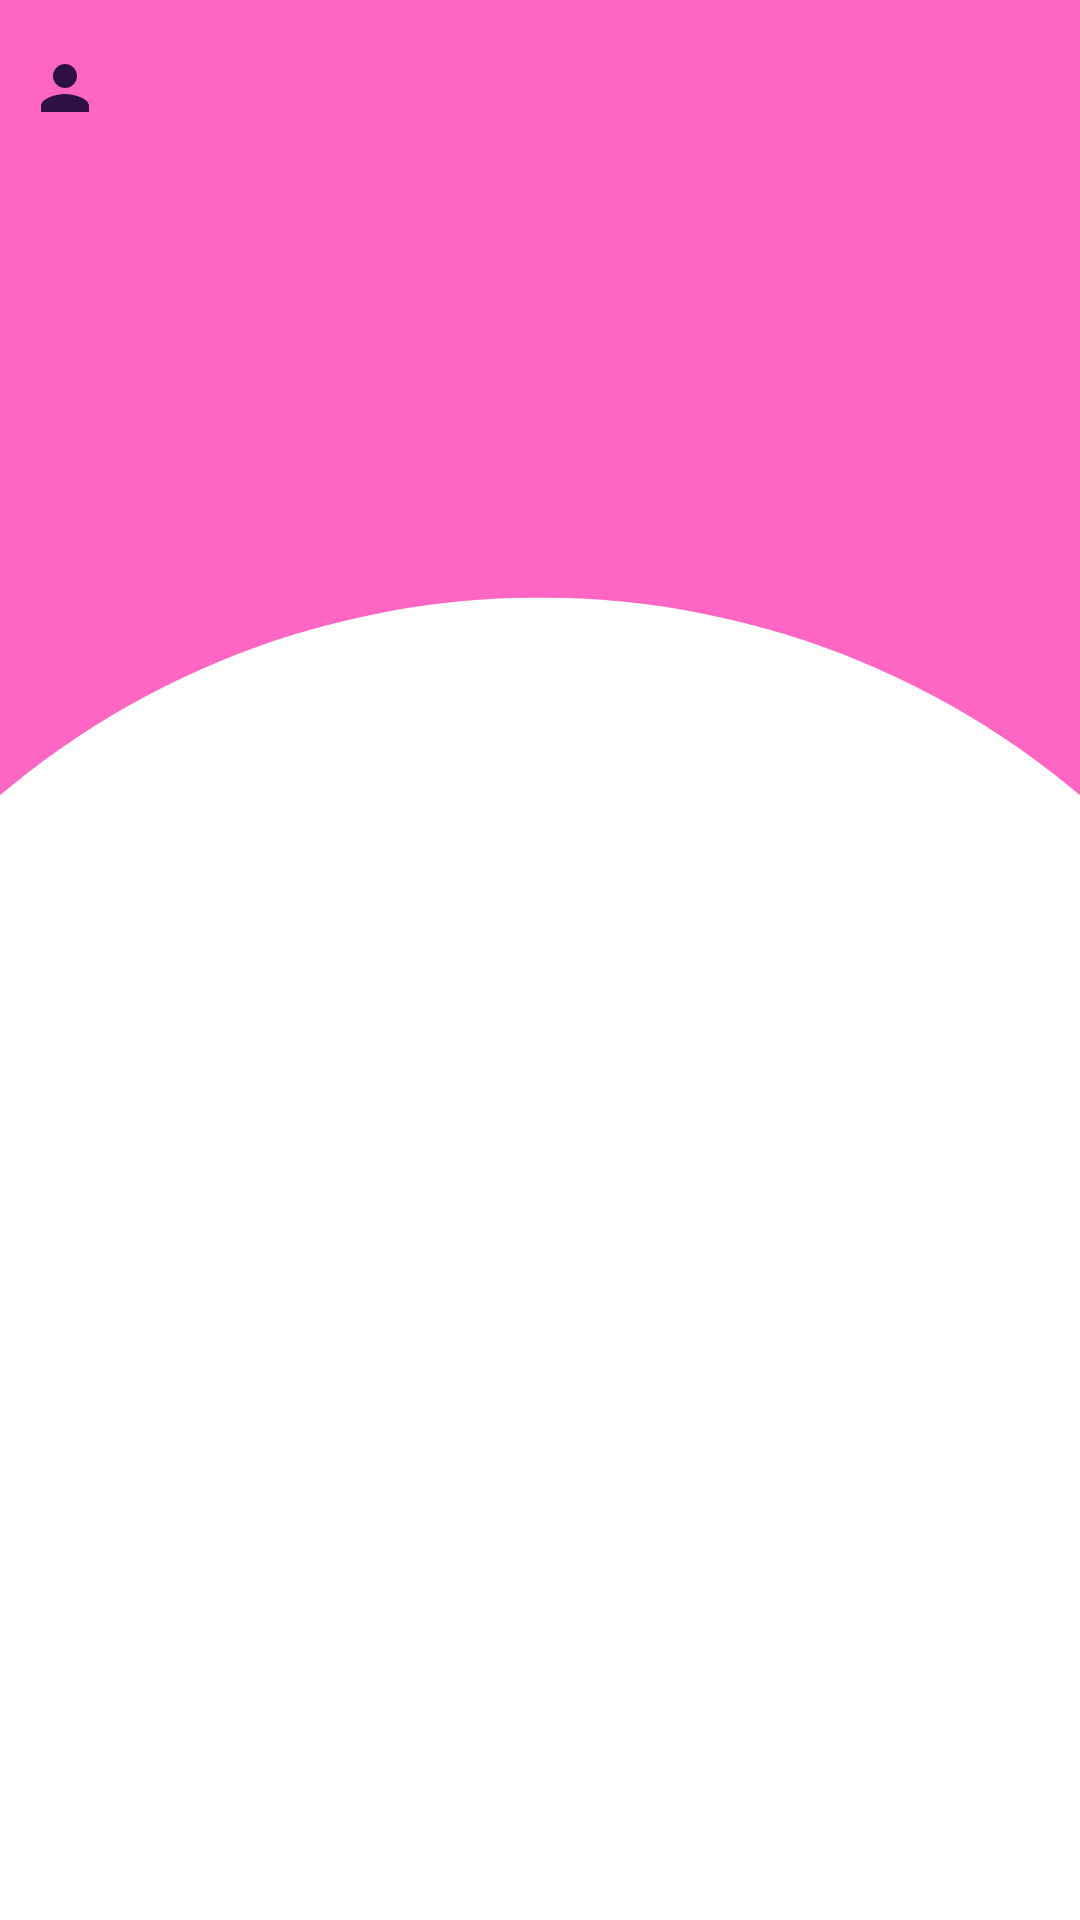

Icon bounding boxes for this 1080px×1920px phone screenshot, format (x1, y1, x2, y2):
Username: (41, 64, 89, 112)
